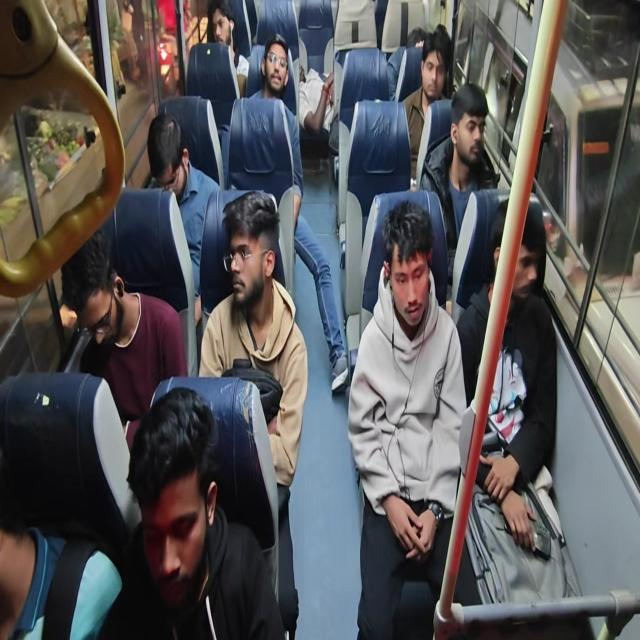person: (64, 250, 176, 472), (0, 464, 136, 640), (151, 433, 245, 640), (482, 234, 578, 372), (198, 184, 270, 362), (436, 64, 522, 200), (131, 104, 207, 219), (372, 193, 436, 326), (303, 37, 344, 153), (414, 34, 456, 138), (202, 4, 240, 61), (259, 30, 286, 99), (405, 18, 430, 63)
